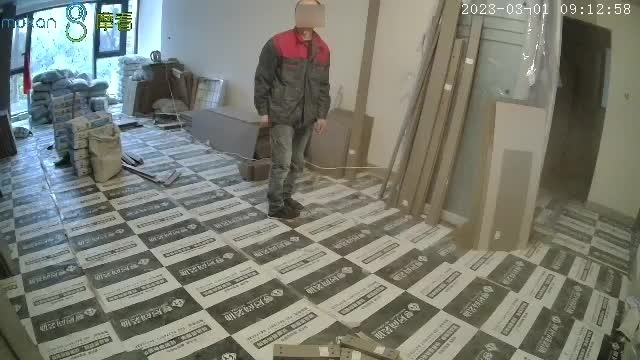people: (255, 1, 330, 219)
window: (10, 1, 139, 127)
